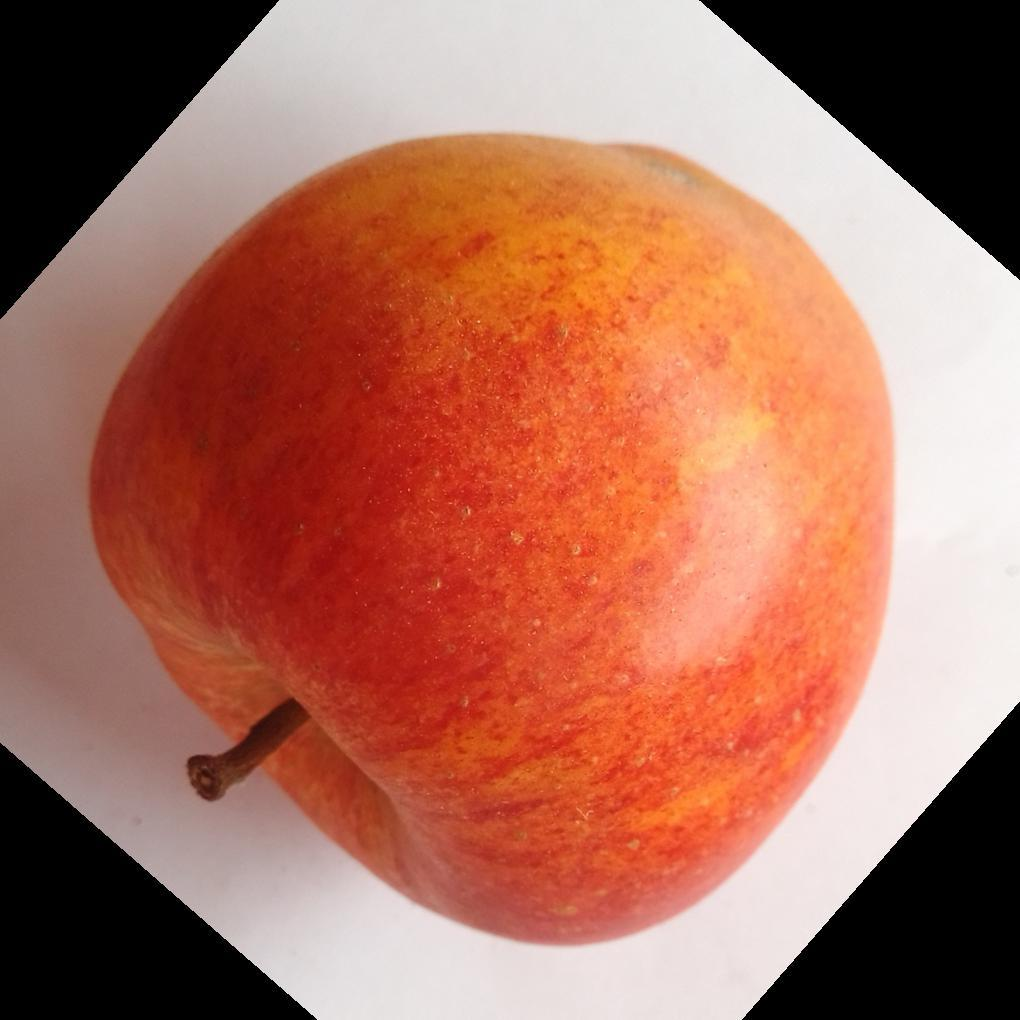FreshGuava: (85, 133, 897, 951)
